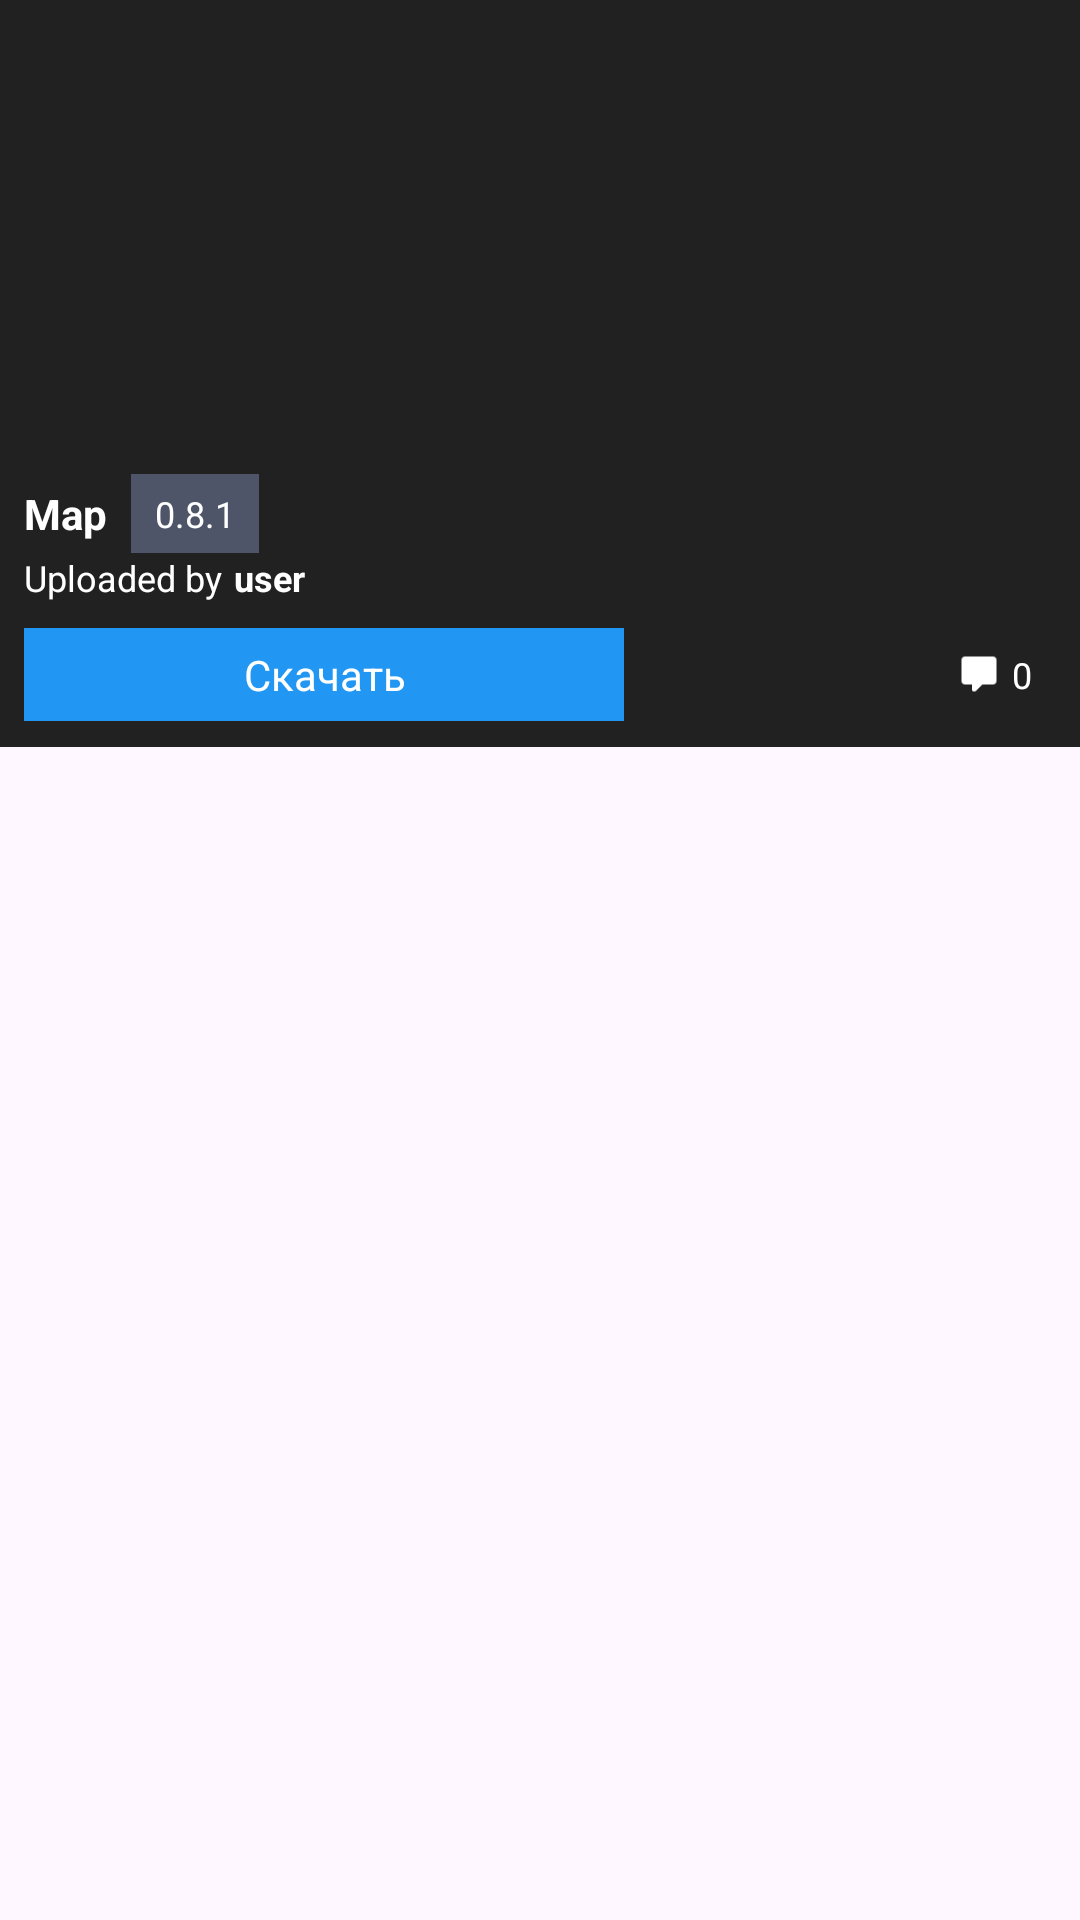

Where to tap for icons on this 1080×1920 app screen, as (x=x, y=y):
comment: (x=979, y=674)
